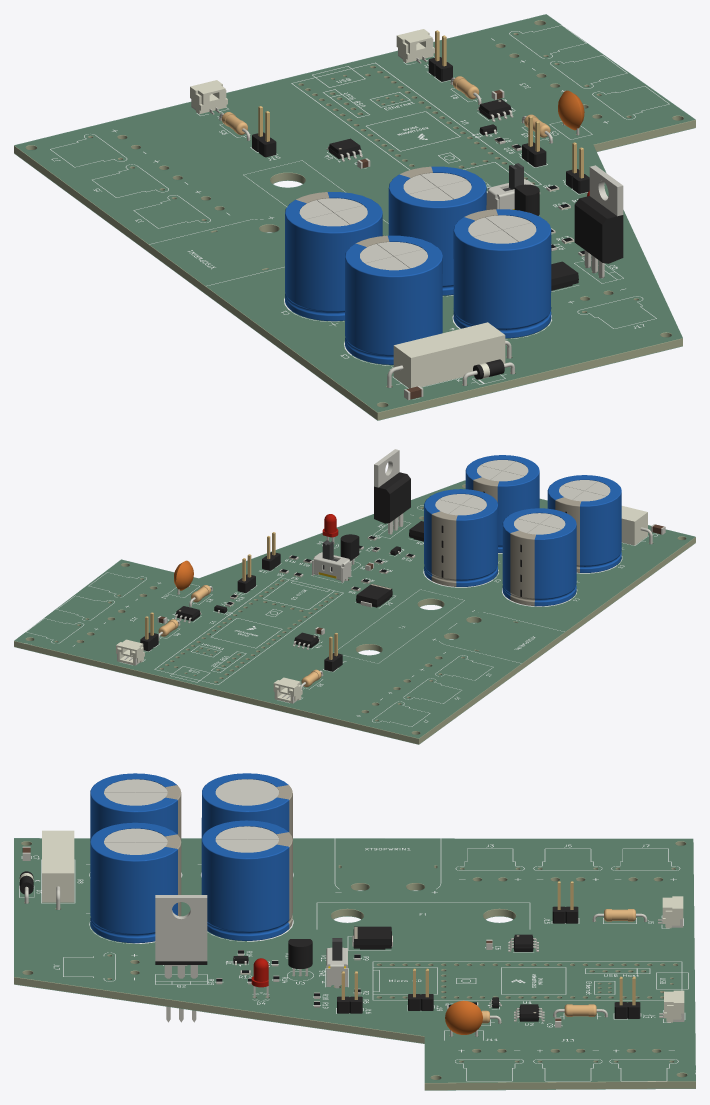
File: exoskeleton-pcb.glb
3 renders of one model, top to bottom at view 1: azimuth 30°, elevation 25°; view 2: azimuth 150°, elevation 25°; view 3: azimuth 270°, elevation 25°, orthographic. The views are drawn at different scales.
Visible parts, largest first — view 1: =>[0:1:1:39], =>[0:1:1:37], =>[0:1:1:9] (×4), =>[0:1:1:33], =>[0:1:1:36], =>[0:1:1:29], =>[0:1:1:3] (×4), =>[0:1:1:27] (×2), =>[0:1:1:19], =>[0:1:1:38], =>[0:1:1:23], =>[0:1:1:25] (+2 smaller); view 2: =>[0:1:1:37], =>[0:1:1:39], =>[0:1:1:9] (×4), =>[0:1:1:36], =>[0:1:1:29], =>[0:1:1:27] (×2), =>[0:1:1:19], =>[0:1:1:33], =>[0:1:1:38], =>[0:1:1:17], =>[0:1:1:25], =>[0:1:1:23]; view 3: =>[0:1:1:37], =>[0:1:1:39], =>[0:1:1:9] (×4), =>[0:1:1:36], =>[0:1:1:29], =>[0:1:1:3] (×4), =>[0:1:1:33], =>[0:1:1:27] (×2), =>[0:1:1:23], =>[0:1:1:15] (×2), =>[0:1:1:17], =>[0:1:1:19] (+3 smaller).
Boxes of the visible parts, x1,y1,x2,y2 form: =>[0:1:1:39]: [14, 15, 695, 420]; =>[0:1:1:37]: [14, 14, 695, 412]; =>[0:1:1:9] (×4): [285, 166, 551, 364]; =>[0:1:1:33]: [387, 322, 511, 388]; =>[0:1:1:36]: [50, 17, 669, 399]; =>[0:1:1:29]: [574, 165, 623, 278]; =>[0:1:1:3] (×4): [252, 30, 589, 193]; =>[0:1:1:27] (×2): [190, 29, 434, 114]; =>[0:1:1:19]: [486, 163, 535, 209]; =>[0:1:1:38]: [14, 127, 695, 420]; =>[0:1:1:23]: [558, 90, 584, 135]; =>[0:1:1:25]: [514, 184, 539, 215]; =>[0:1:1:37]: [14, 480, 695, 738]; =>[0:1:1:39]: [14, 481, 695, 744]; =>[0:1:1:9] (×4): [424, 455, 621, 606]; =>[0:1:1:36]: [24, 505, 658, 726]; =>[0:1:1:29]: [374, 449, 410, 534]; =>[0:1:1:27] (×2): [116, 639, 302, 703]; =>[0:1:1:19]: [312, 540, 351, 582]; =>[0:1:1:33]: [621, 506, 652, 545]; =>[0:1:1:38]: [14, 543, 695, 744]; =>[0:1:1:17]: [356, 584, 392, 607]; =>[0:1:1:25]: [340, 534, 359, 566]; =>[0:1:1:23]: [174, 560, 193, 594]; =>[0:1:1:37]: [14, 838, 695, 1082]; =>[0:1:1:39]: [14, 839, 695, 1090]; =>[0:1:1:9] (×4): [90, 773, 292, 943]; =>[0:1:1:36]: [19, 838, 695, 1081]; =>[0:1:1:29]: [155, 895, 207, 1022]; =>[0:1:1:3] (×4): [337, 881, 640, 1018]; =>[0:1:1:33]: [42, 830, 74, 909]; =>[0:1:1:27] (×2): [658, 896, 684, 1022]; =>[0:1:1:23]: [445, 1000, 482, 1036]; =>[0:1:1:15] (×2): [553, 909, 647, 1017]; =>[0:1:1:17]: [352, 926, 392, 949]; =>[0:1:1:19]: [326, 938, 347, 988].
Bounding box in the file's own units: 0.1143 × 0.0285 × 0.1345.
